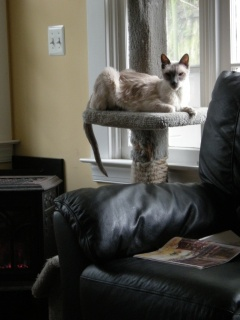Cat: (82, 50, 197, 177)
